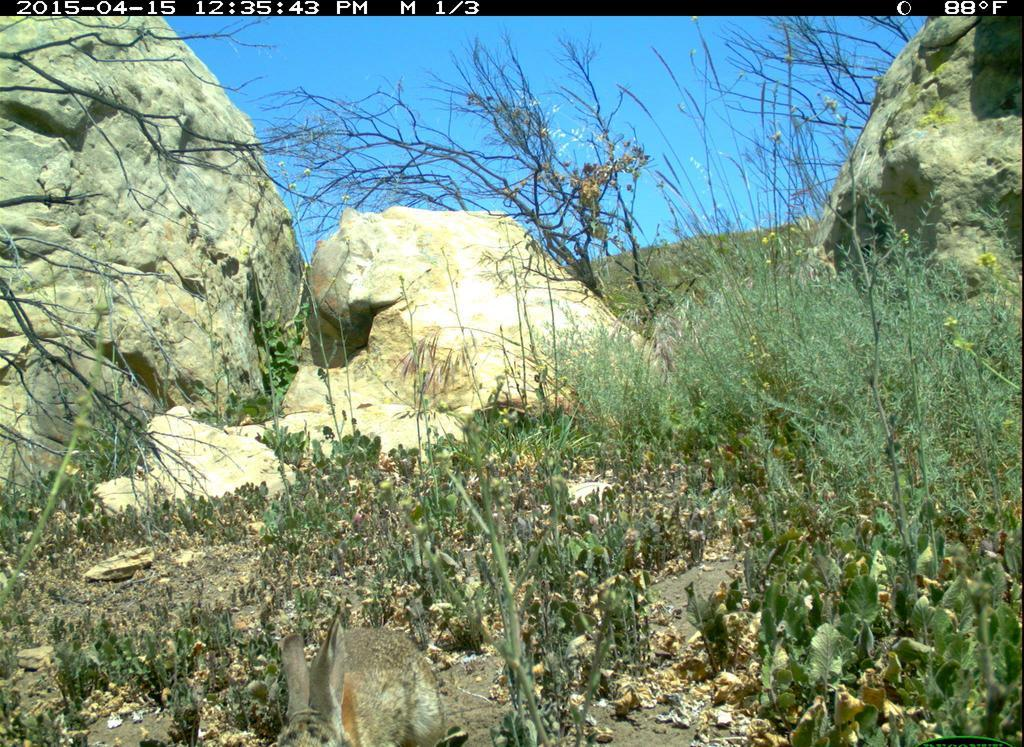rabbit: (281, 601, 450, 745)
